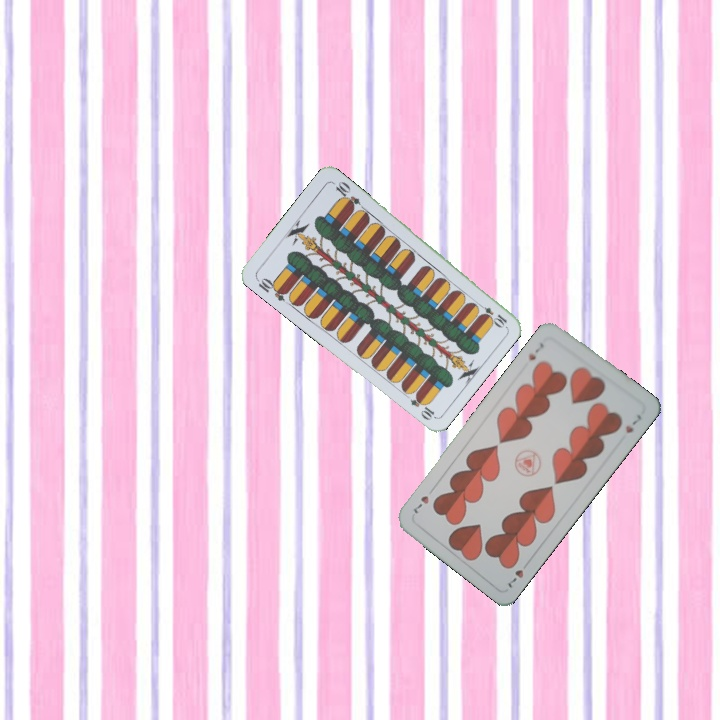E10: (252, 273, 290, 304), (473, 299, 510, 329)
H7: (504, 556, 531, 591), (525, 338, 547, 363)
